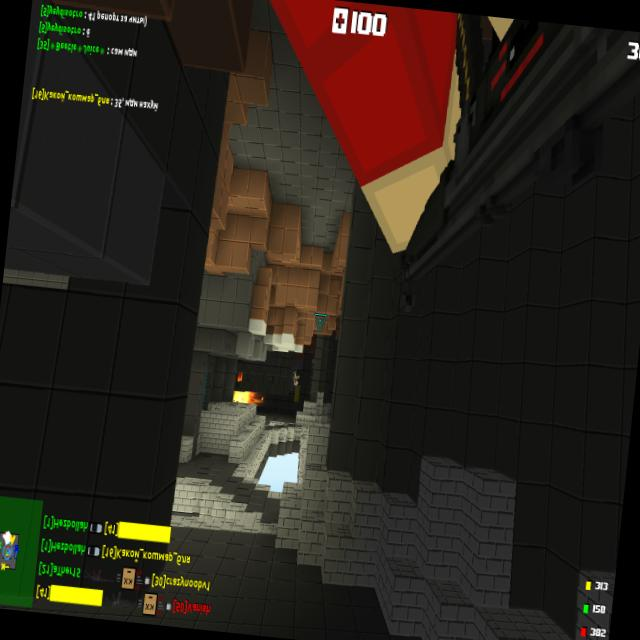enemy: (290, 369, 300, 386)
